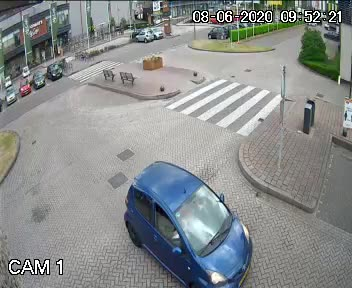car: (106, 158, 257, 288), (317, 14, 351, 40), (43, 59, 63, 83), (201, 26, 231, 40), (4, 86, 18, 109), (133, 30, 159, 42), (148, 24, 171, 37), (30, 74, 47, 90), (15, 81, 32, 95), (2, 71, 13, 88), (18, 62, 33, 74)
